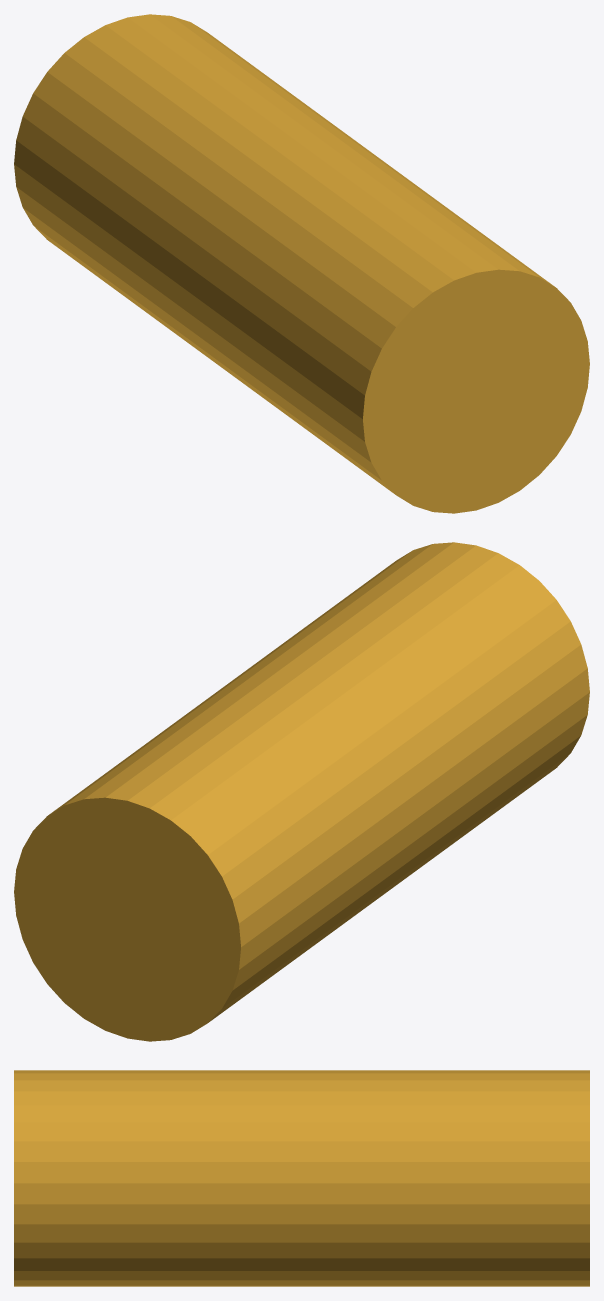
Rendered from can_coffee2.obj.
The picture shows the model from 3 angles, top to bottom: view 1: azimuth 30°, elevation 25°; view 2: azimuth 150°, elevation 25°; view 3: azimuth 270°, elevation 25°; orthographic projection. The views are drawn at different scales.
Parts seen in each view (by area): view 1: can_coffee2; view 2: can_coffee2; view 3: can_coffee2.
Part boxes in pixels (<box>): can_coffee2: <box>14,14,589,513</box>; can_coffee2: <box>14,542,589,1041</box>; can_coffee2: <box>14,1070,589,1286</box>.
Size of the model in its own units: 0.05 by 0.05 by 0.133.
